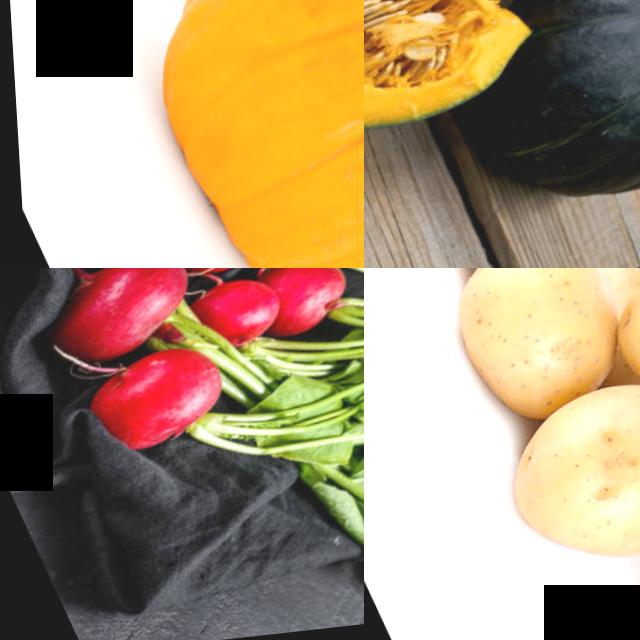potato: (477, 355, 640, 608), (426, 268, 640, 447)
pumpkin: (88, 0, 364, 268), (491, 0, 640, 234), (364, 0, 522, 195)
radishes: (1, 268, 364, 482)
